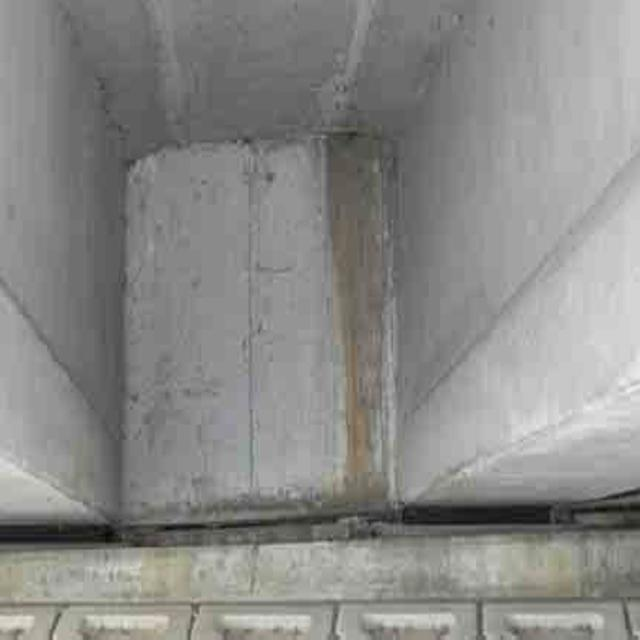leakage: (314, 111, 403, 513)
